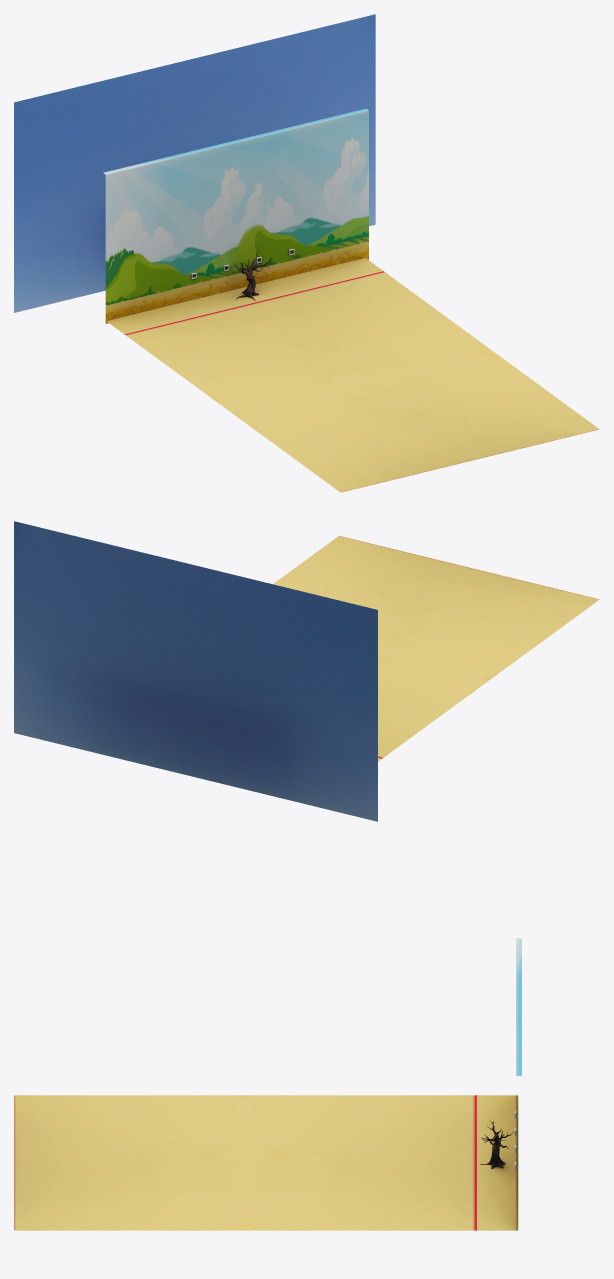
Rendered from map (1).FBX.
The picture shows the model from 3 angles, top to bottom: view 1: azimuth 30°, elevation 25°; view 2: azimuth 150°, elevation 25°; view 3: azimuth 270°, elevation 25°; orthographic projection. The views are drawn at different scales.
Visible parts, largest first — view 1: Plane001; view 2: Plane001; view 3: Plane001.
Boxes of the visible parts, x1,y1,x2,y2 form: Plane001: (14,14,599,492); Plane001: (14,521,599,821); Plane001: (14,938,521,1230).
Bounding box in the file's own units: 214 × 119 × 280.
Materials: 1 (1 with a texture image).
